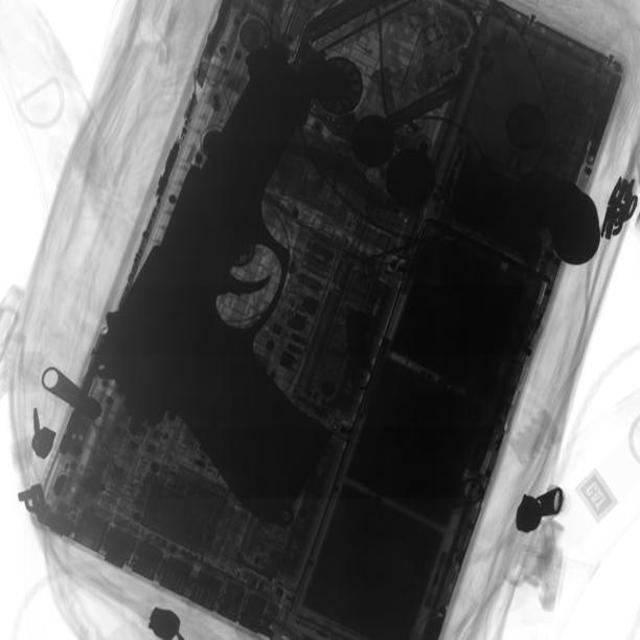gun: (90, 61, 332, 537)
